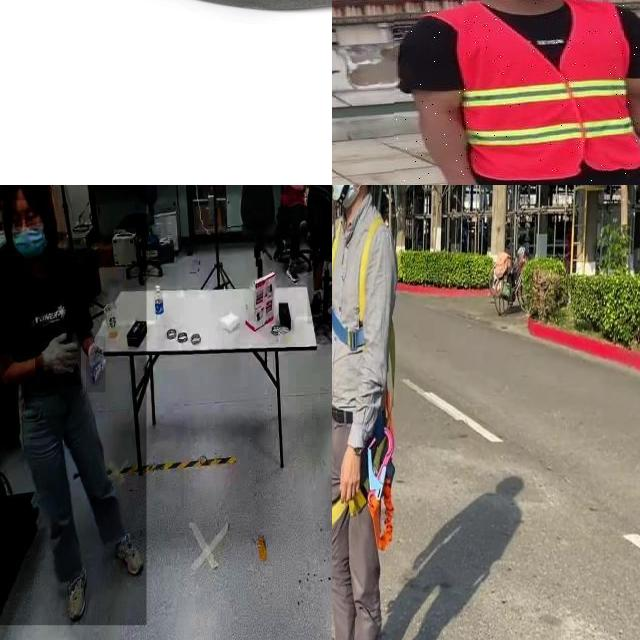Harness: (332, 397, 396, 551), (332, 217, 384, 352)
face_mask: (7, 210, 51, 263)
hand_glove: (35, 326, 81, 386), (86, 337, 106, 392)
head_nohelmet: (0, 185, 51, 200)
person: (0, 185, 147, 626), (394, 0, 640, 185), (307, 185, 332, 324), (277, 185, 310, 270)
shoes: (107, 522, 147, 581), (58, 558, 88, 627)
vest: (457, 4, 640, 179)
